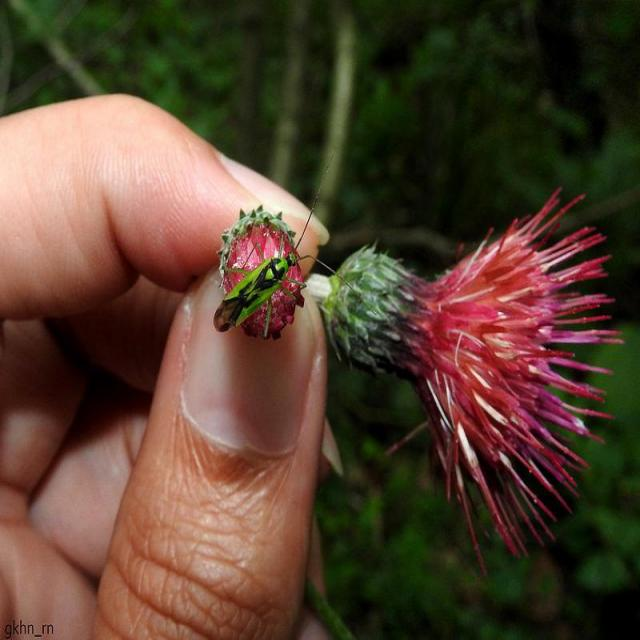Miridae-Adult-: (212, 206, 328, 334)
